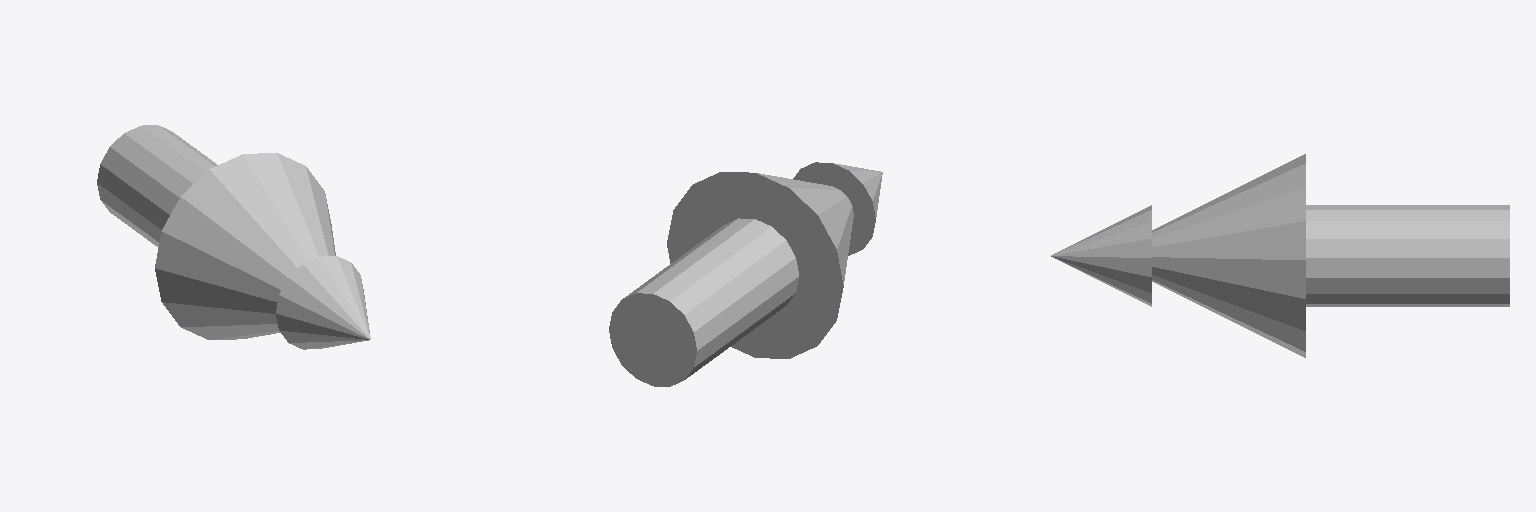
Rendered from tree.obj.
3 views of the same model, side by side, from view 1: azimuth 30°, elevation 25°; view 2: azimuth 150°, elevation 25°; view 3: azimuth 270°, elevation 25° (orthographic).
Visible parts, largest first — view 1: Cone, Cylinder, Cone.001; view 2: Cylinder, Cone, Cone.001; view 3: Cylinder, Cone, Cone.001.
Boxes of the visible parts, <box> form: Cone: <box>155,153,335,339</box>; Cylinder: <box>97,125,217,247</box>; Cone.001: <box>276,256,370,349</box>; Cylinder: <box>609,218,798,386</box>; Cone: <box>667,172,853,358</box>; Cone.001: <box>793,162,882,255</box>; Cylinder: <box>1306,205,1509,306</box>; Cone: <box>1152,154,1305,357</box>; Cone.001: <box>1051,205,1151,306</box>.
Size of the model in its own units: 2 by 2 by 4.5.